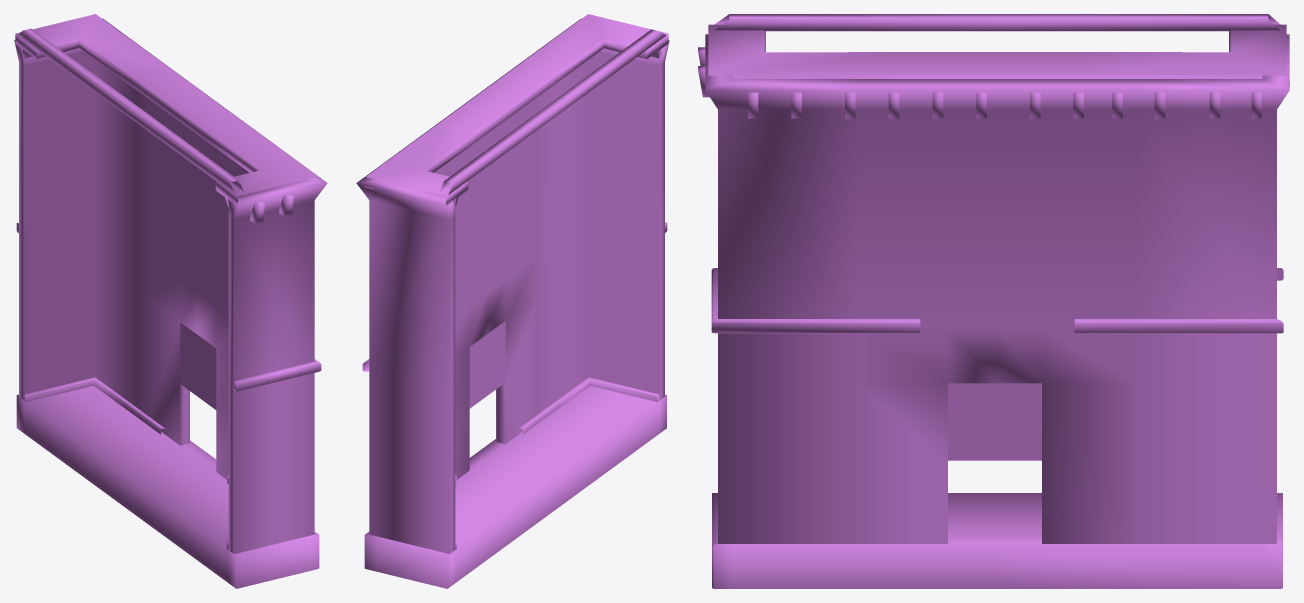
File: Endbuilding(Mine)CrawlWall.fbx
3 renders of one model, left to right at view 1: azimuth 30°, elevation 25°; view 2: azimuth 150°, elevation 25°; view 3: azimuth 270°, elevation 25°, orthographic. The views are drawn at different scales.
Visible parts, largest first — view 1: BrickHouse_End_B.001; view 2: BrickHouse_End_B.001; view 3: BrickHouse_End_B.001.
Part boxes in pixels (x1=…): BrickHouse_End_B.001: x1=14, y1=14, x2=327, y2=588; BrickHouse_End_B.001: x1=356, y1=14, x2=669, y2=588; BrickHouse_End_B.001: x1=698, y1=14, x2=1289, y2=588.
Size of the model in its own units: 829 by 3583 by 3682.
